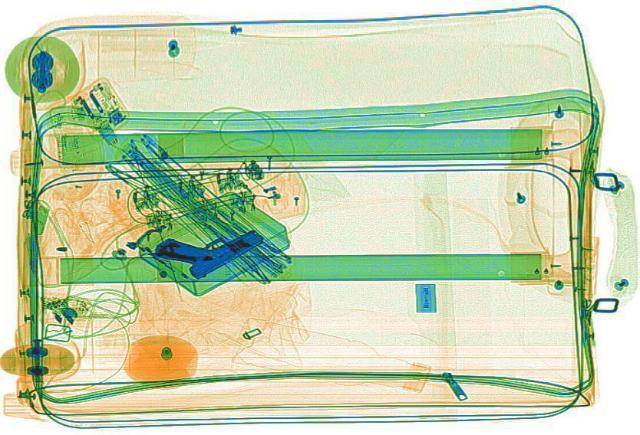Gun: (145, 206, 269, 281)
